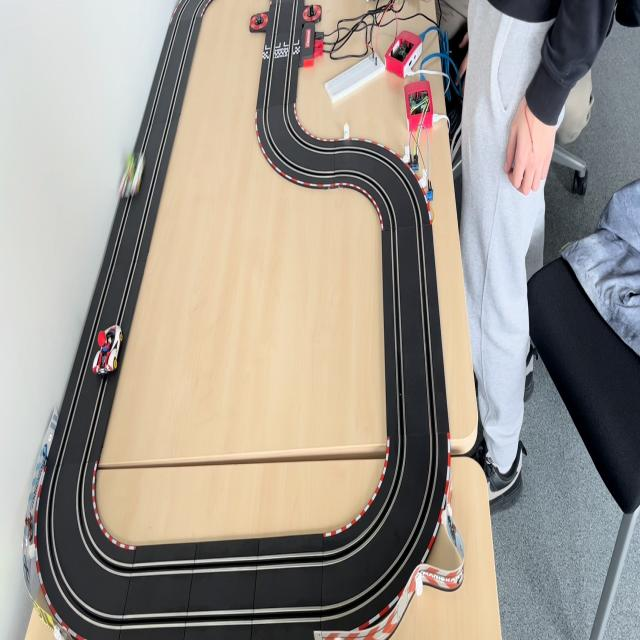mario: (91, 318, 125, 379)
yoshi: (118, 153, 152, 199)
